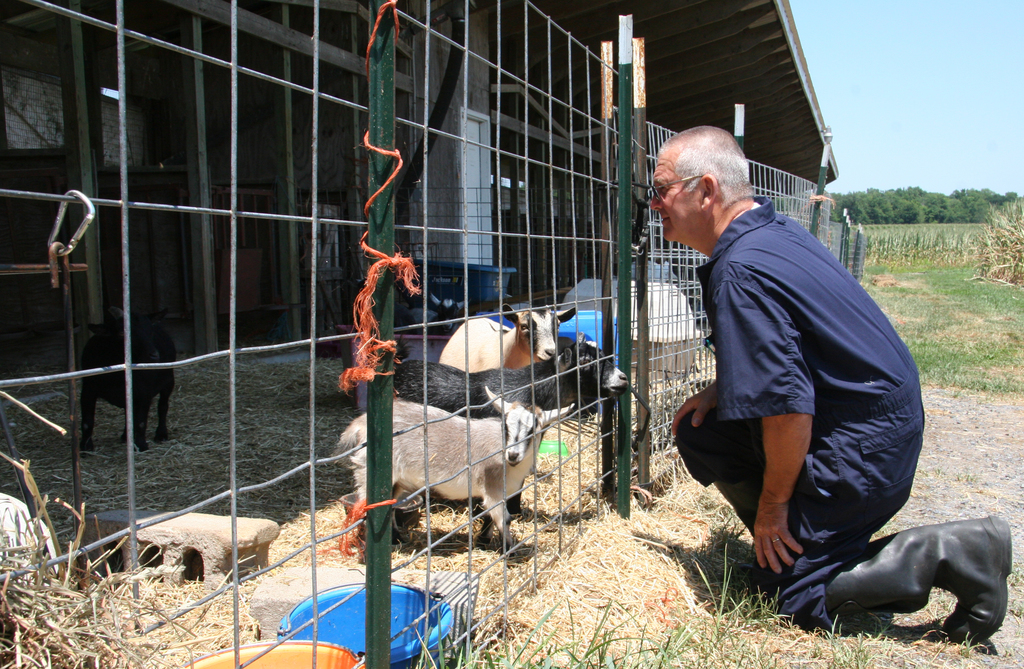Animal: (377, 331, 635, 517), (329, 386, 575, 559), (80, 307, 172, 456), (439, 301, 579, 366)
